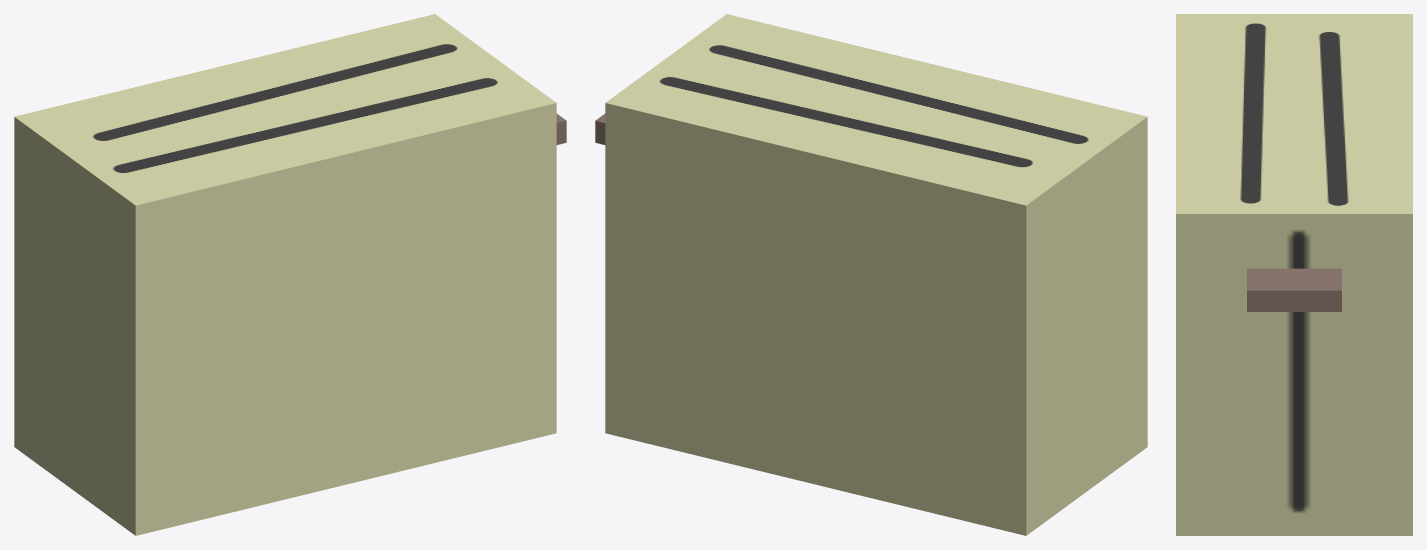
File: Toaster.fbx
3 views of the same model, side by side, from view 1: azimuth 30°, elevation 25°; view 2: azimuth 150°, elevation 25°; view 3: azimuth 270°, elevation 25° (orthographic). The views are drawn at different scales.
Parts seen in each view (by area): view 1: Toaster; view 2: Toaster; view 3: Toaster.
Part boxes in pixels (bbox=[...]): Toaster: bbox=[14, 14, 566, 535]; Toaster: bbox=[595, 14, 1147, 535]; Toaster: bbox=[1176, 14, 1412, 535].
Size of the model in its own units: 44.42 by 30 by 20.
1 material, 1 textured.
